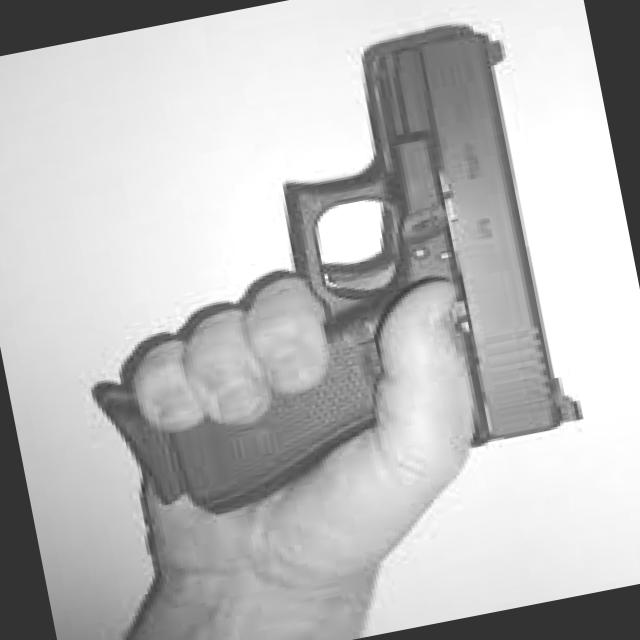handgun: (41, 9, 588, 535)
